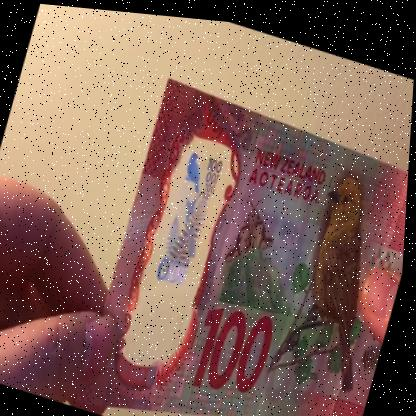100B: (142, 138, 231, 329)
